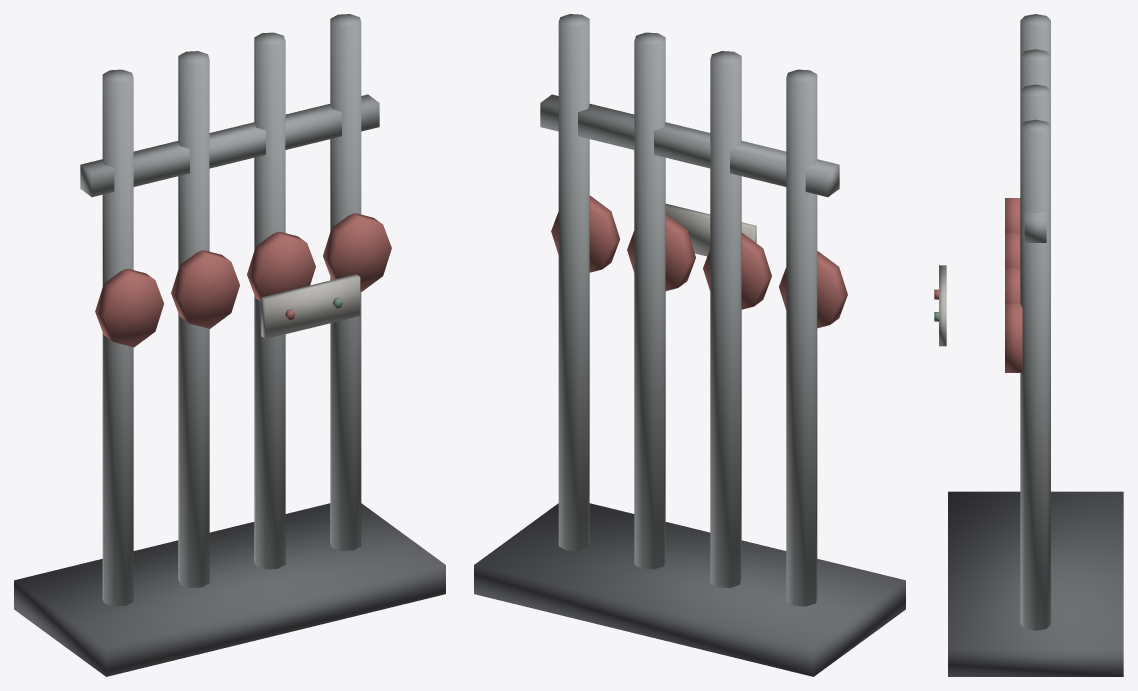
Rendered from pipe_valve_station__tall.glb.
3 renders of one model, left to right at view 1: azimuth 30°, elevation 25°; view 2: azimuth 150°, elevation 25°; view 3: azimuth 270°, elevation 25°, orthographic. The views are drawn at different scales.
Parts seen in each view (by area): view 1: world; view 2: world; view 3: world.
Part boxes in pixels (x1=…): world: x1=14, y1=14, x2=445, y2=676; world: x1=474, y1=14, x2=905, y2=676; world: x1=934, y1=14, x2=1123, y2=676.
Size of the model in its own units: 0.85 by 1.32 by 0.431.
